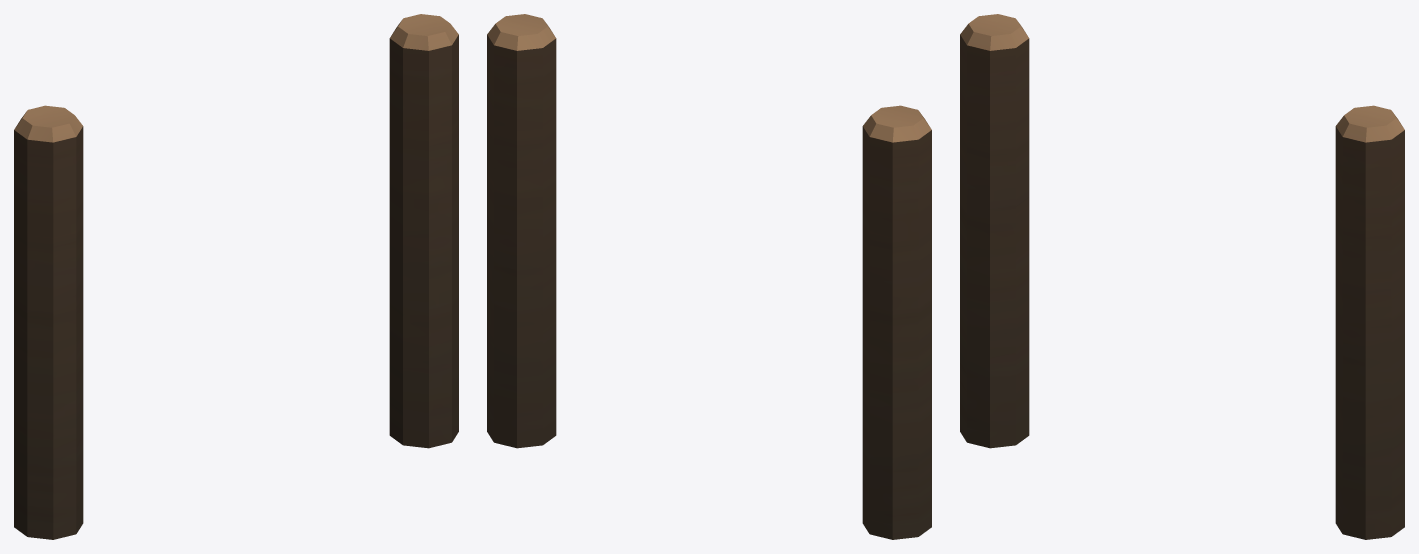
Rendered from Fence_Door_Post.obj.
3 views of the same model, side by side, from view 1: azimuth 30°, elevation 25°; view 2: azimuth 150°, elevation 25°; view 3: azimuth 330°, elevation 25° (orthographic).
Visible parts, largest first — view 1: Fence_Door_Post; view 2: Fence_Door_Post; view 3: Fence_Door_Post.
Part boxes in pixels (left/top/right/bottom): Fence_Door_Post: left=14, top=14, right=458, bottom=539; Fence_Door_Post: left=487, top=14, right=931, bottom=539; Fence_Door_Post: left=960, top=14, right=1404, bottom=539.
Bounding box in the file's own units: 1.22 × 1.11 × 0.1583.
